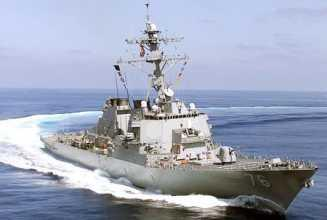warship: (44, 10, 313, 201)
